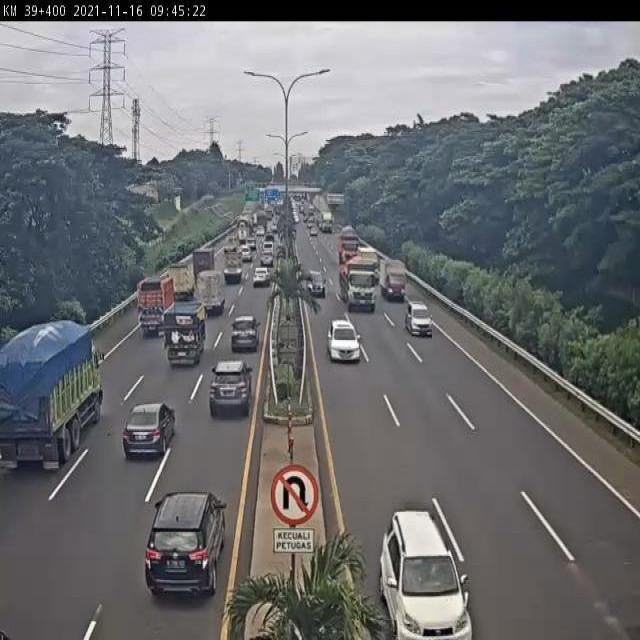car: (381, 510, 474, 640), (144, 493, 229, 600), (121, 403, 175, 460), (211, 363, 253, 416), (327, 320, 364, 364), (403, 299, 434, 337), (229, 313, 257, 351), (306, 272, 327, 301)
small truck: (378, 255, 408, 302), (197, 271, 228, 316), (169, 264, 197, 300)
truck-l-: (1, 316, 101, 464), (336, 254, 379, 314)
truck-m-: (163, 302, 208, 369), (137, 275, 174, 337)
